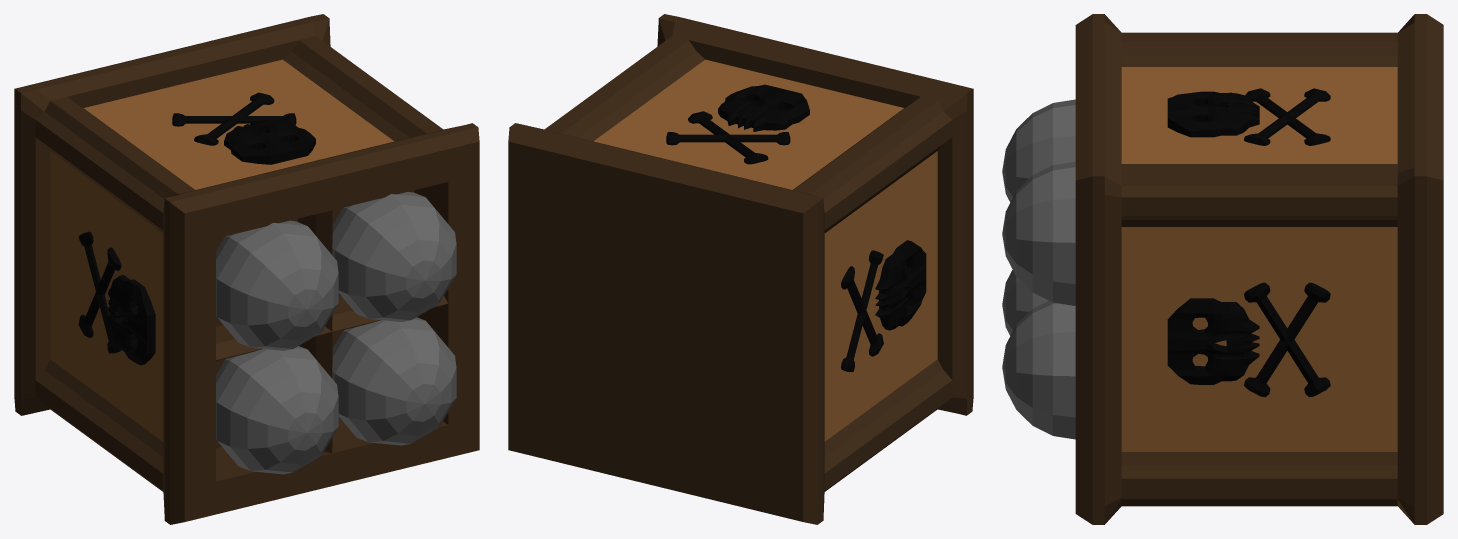
File: caixa.fbx
The picture shows the model from 3 angles, left to right: view 1: azimuth 30°, elevation 25°; view 2: azimuth 150°, elevation 25°; view 3: azimuth 270°, elevation 25°; orthographic projection. The views are drawn at different scales.
Visible parts, largest first — view 1: Cube.030, Sphere.001, Sphere.003, Sphere, Sphere.002, Cube.034, Cube.035, Cube.033, Cube.032; view 2: Cube.030, Cube.032, Cube.035, Cube.034, Cube.033; view 3: Cube.030, Sphere.003, Sphere.002, Sphere.001, Cube.034, Cube.035, Sphere, Cube.033, Cube.032.
Boxes of the visible parts, box(x1,y1,x2,y2) form: Cube.030: box(14, 14, 479, 524); Sphere.001: box(216, 220, 338, 350); Sphere.003: box(332, 192, 456, 321); Sphere: box(216, 346, 338, 474); Sphere.002: box(332, 317, 456, 445); Cube.034: box(78, 231, 121, 353); Cube.035: box(78, 247, 121, 337); Cube.033: box(172, 113, 296, 126); Cube.032: box(194, 92, 274, 145); Cube.030: box(508, 14, 973, 524); Cube.032: box(666, 132, 790, 145); Cube.035: box(841, 250, 883, 371); Cube.034: box(841, 266, 883, 356); Cube.033: box(688, 111, 768, 164); Cube.030: box(1075, 14, 1443, 524); Sphere.003: box(1002, 161, 1075, 305); Sphere.002: box(1002, 301, 1075, 439); Sphere.001: box(1002, 99, 1075, 202); Cube.034: box(1244, 282, 1330, 397); Cube.035: box(1244, 282, 1330, 396); Sphere: box(1002, 270, 1048, 335); Cube.033: box(1244, 88, 1330, 145); Cube.032: box(1244, 88, 1330, 145).
Bounding box in the file's own units: 105 × 105 × 120.
